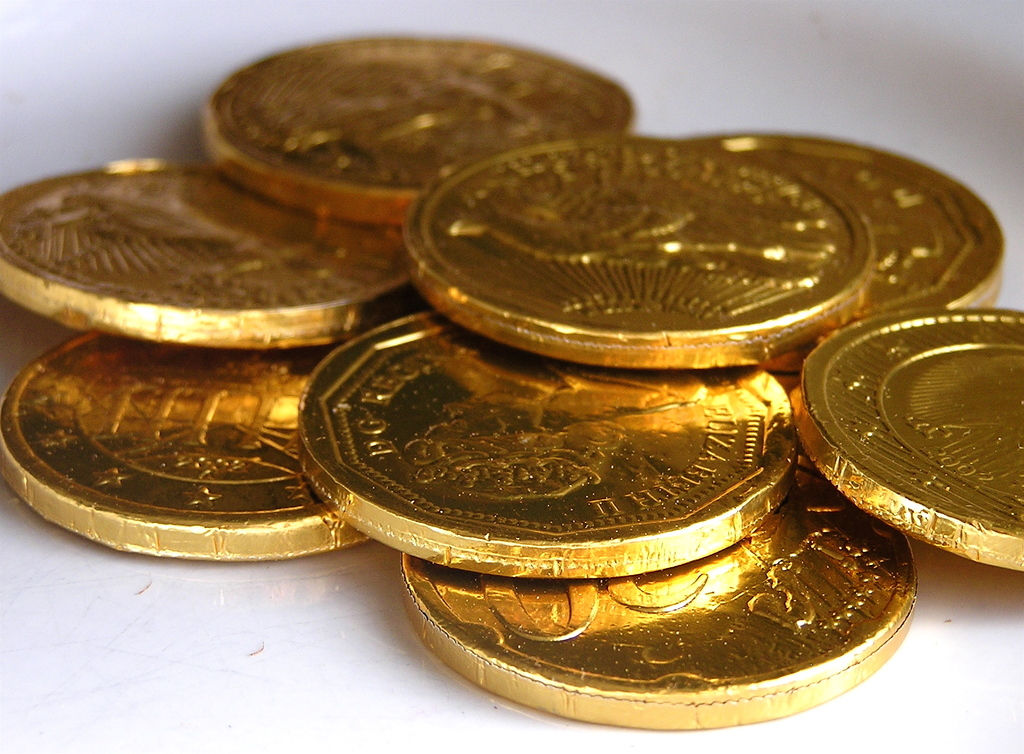Coin: (0, 35, 1023, 729)
